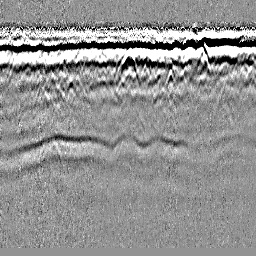cavity: (116, 48, 140, 87)
